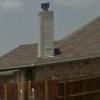Chimney: (29, 0, 63, 60)
